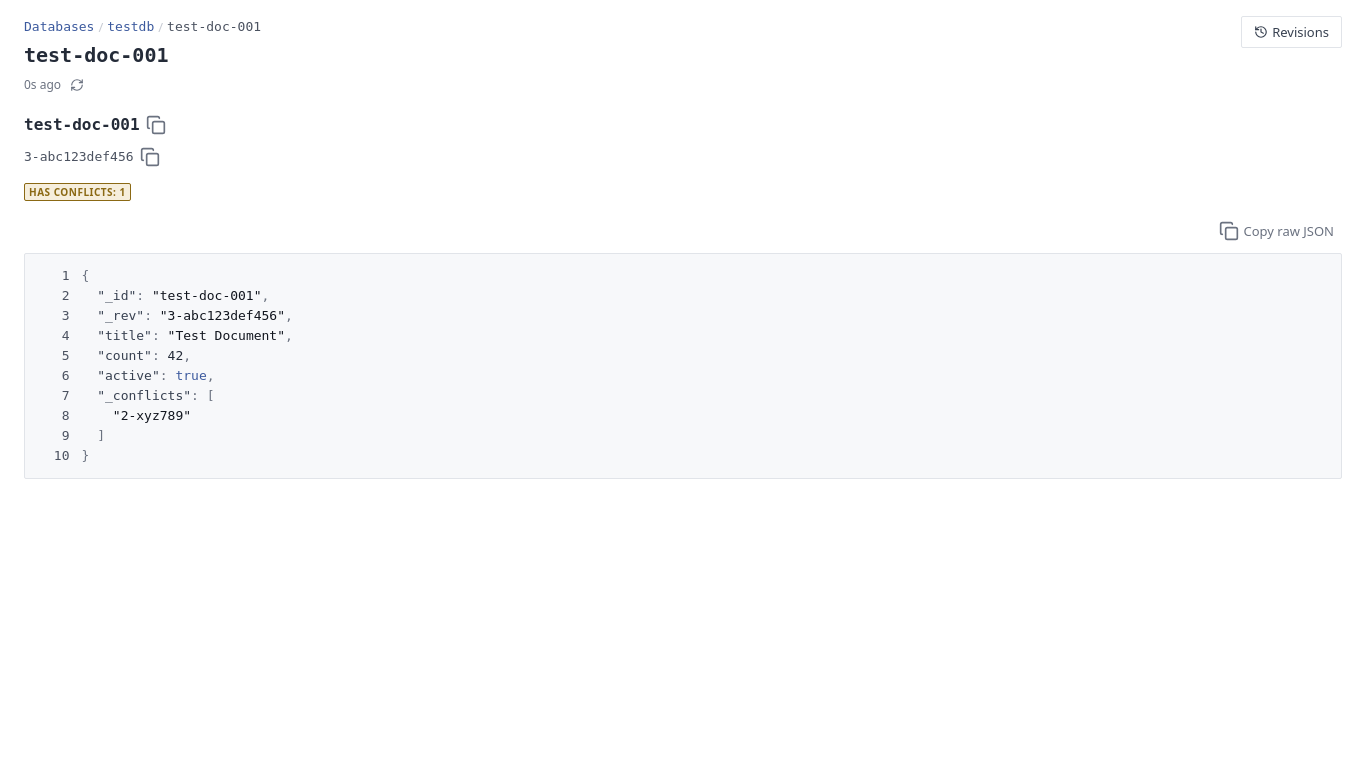
Test: DocumentDetailComponent › should fetch and display a conflict revision when clicked
# Toggle conflict list open
Click the button with class "doc-detail__conflict-toggle". click: (77, 191)
box: [24,181,131,201]
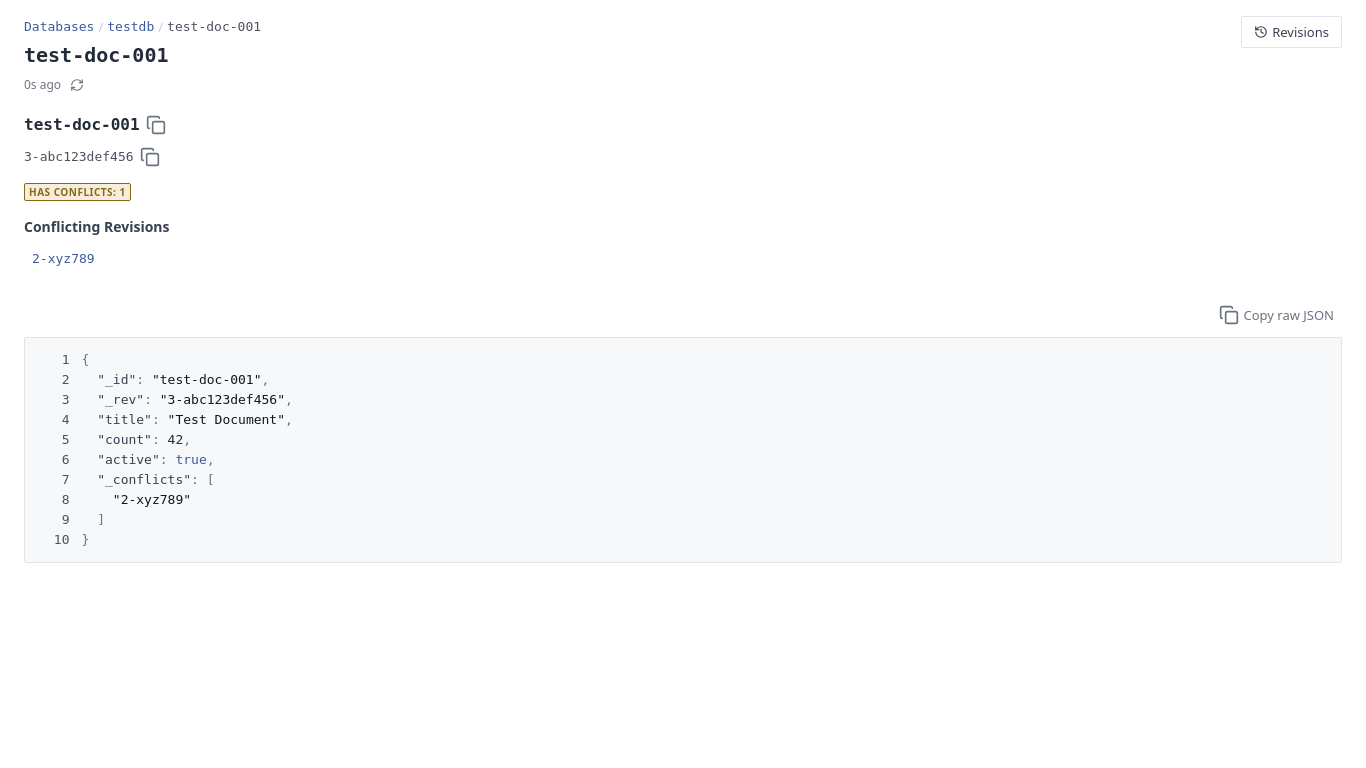
Check: the button with class "doc-detail__conflict-rev" is shown
Click the button with class "doc-detail__conflict-rev". click: (63, 259)
box: [24,245,103,273]
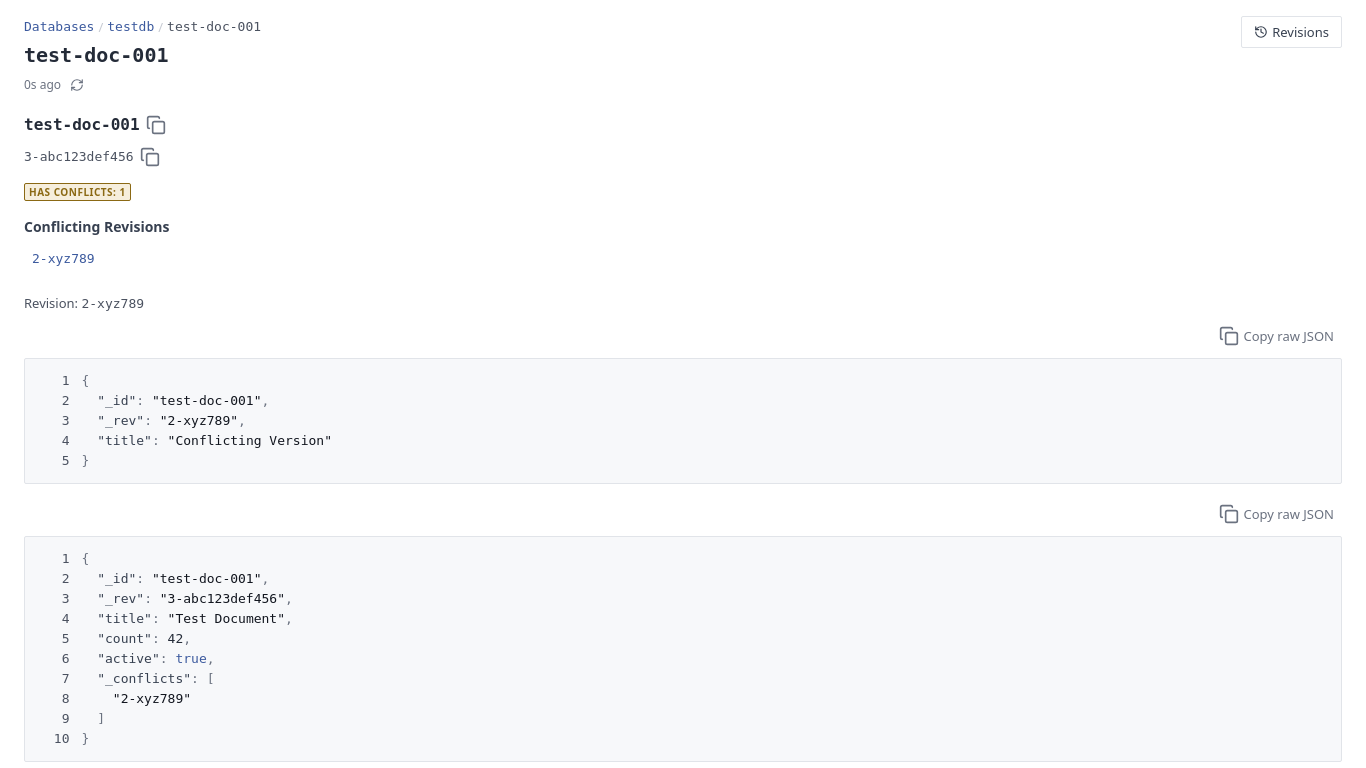
Check: the element with class "doc-detail__conflict-body" is shown, box [24,285,1342,484]
Check: the element with class "doc-detail__conflict-body" shows "2-xyz789", box [82,296,144,311]
